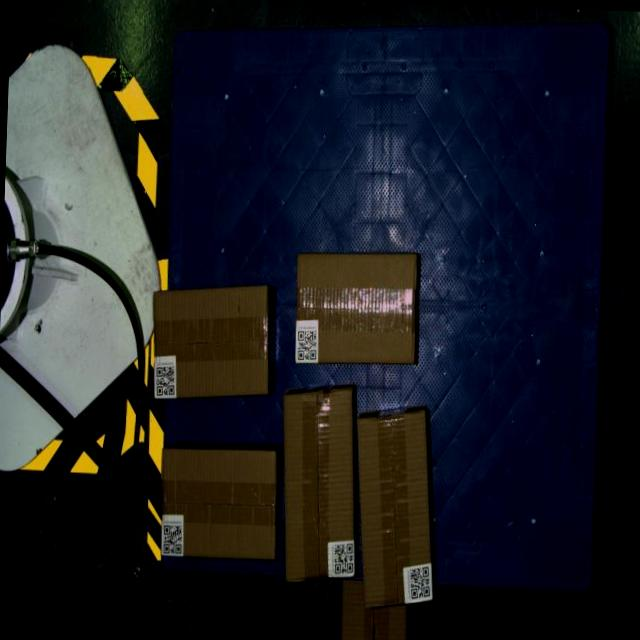box: (349, 407, 439, 610), (276, 387, 360, 584), (149, 280, 271, 403), (294, 249, 418, 367), (157, 445, 279, 560)
